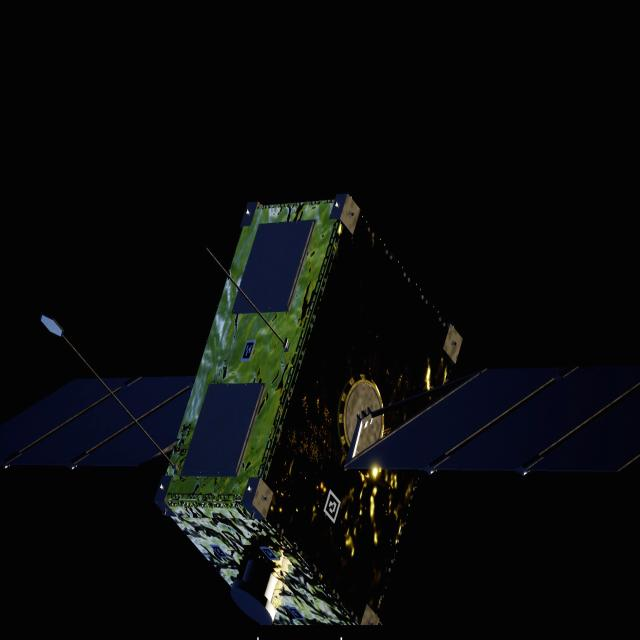satellite: (0, 194, 640, 627)
